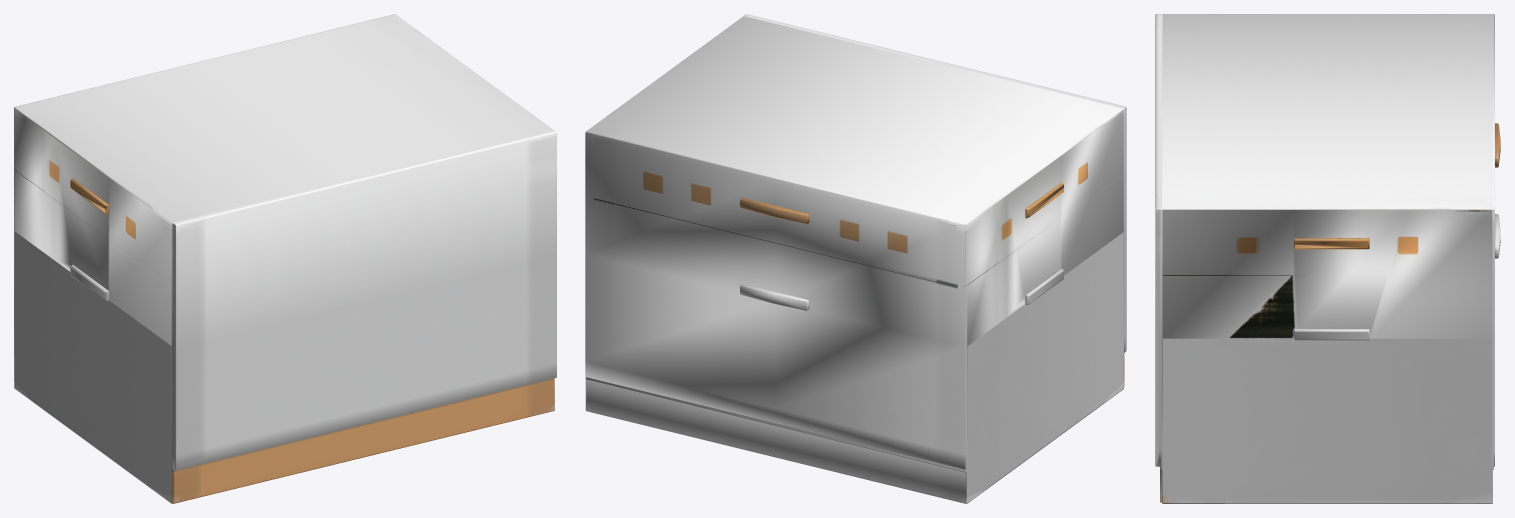
File: Meshy_AI_A_stylized_low_poly_k_0430223608_texture.fbx
3 views of the same model, side by side, from view 1: azimuth 30°, elevation 25°; view 2: azimuth 150°, elevation 25°; view 3: azimuth 270°, elevation 25° (orthographic). The views are drawn at different scales.
Parts seen in each view (by area): view 1: Mesh_0; view 2: Mesh_0; view 3: Mesh_0.
Boxes of the visible parts, x1=… form: Mesh_0: x1=14, y1=14, x2=556, y2=503; Mesh_0: x1=585, y1=14, x2=1126, y2=503; Mesh_0: x1=1155, y1=14, x2=1500, y2=503.
Bounding box in the file's own units: 190 × 131 × 139.
1 material, 1 textured.
